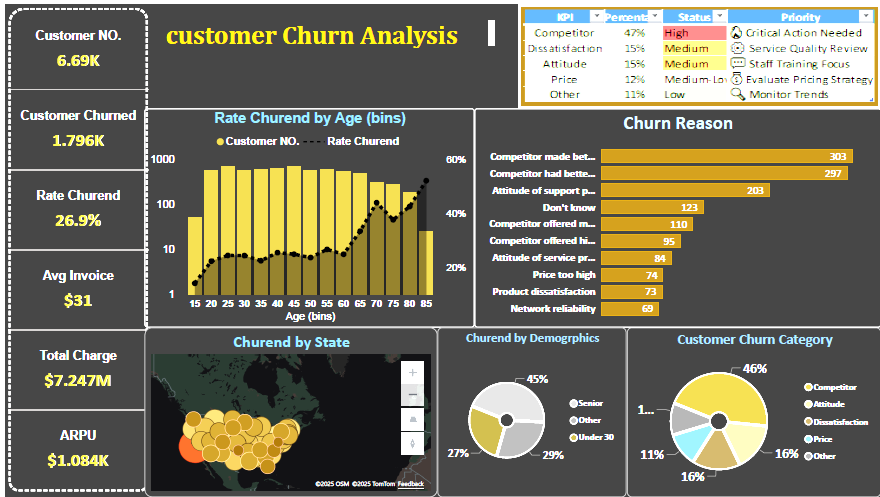

This screenshot's page, from the dashboard's own definition file:
{"tool":"powerbi","page":{"name":"Customer","canvas":[1280,720],"ordinal":0},"visuals":[{"type":"cardVisual","fields":{"Data":["Calculation.Customer NO.","Calculation.Customer Churned","Calculation.Rate Churend","Calculation.Avg Invoice","Calculation.Total Charge","Calculation.ARPU"]},"box":[0,0,214.3,719.8],"z":0},{"type":"donutChart","title":"Customer Churn Category","fields":{"Category":["Customer Churn.Churn Category"],"Y":["Calculation.Customer NO."]},"box":[908.5,472,371.3,248],"z":1000},{"type":"barChart","title":" Churn Reason","fields":{"Category":["Customer Churn.Churn Reason"],"Y":["Calculation.Customer NO.","select"]},"box":[686,151.7,593.9,320.3],"z":2000},{"type":"lineStackedColumnComboChart","title":" Rate Churend by Age (bins)","fields":{"Y":["Calculation.Customer NO."],"Category":["Customer Churn.Age (bins)"],"Y2":["Calculation.Rate Churend"]},"box":[204.1,151.7,481.9,320.3],"z":3000},{"type":"azureMap","title":" Churend  by State","fields":{"Category":["Customer Churn.State"],"Size":["Calculation.Rate Churend"]},"box":[204.1,472,428,248],"z":4000},{"type":"donutChart","title":" Churend by Demogrphics","fields":{"Category":["Customer Churn.Demogrphics"],"Y":["Calculation.Rate Churend"]},"box":[632.1,472,276.4,248],"z":5000},{"type":"textbox","box":[229.6,18.4,490.4,49.6],"z":6000},{"type":"image","box":[749.8,0,530.1,151.7],"z":7000}]}

Visuals, with their boxes in screenshot pixels (x1, y1, x2, y2), scaled from the page's 1280x720 canvas onto the 880x497 screenshot:
cardVisual - Calculation.Customer NO. x Calculation.Customer Churned: l=0, t=0, r=147, b=496
"Customer Churn Category" donutChart: l=625, t=326, r=879, b=496
" Churn Reason" barChart: l=472, t=105, r=879, b=326
" Rate Churend by Age (bins)" lineStackedColumnComboChart: l=140, t=105, r=472, b=326
" Churend  by State" azureMap: l=140, t=326, r=435, b=496
" Churend by Demogrphics" donutChart: l=435, t=326, r=625, b=496
textbox: l=158, t=13, r=495, b=47
image: l=515, t=0, r=879, b=105
